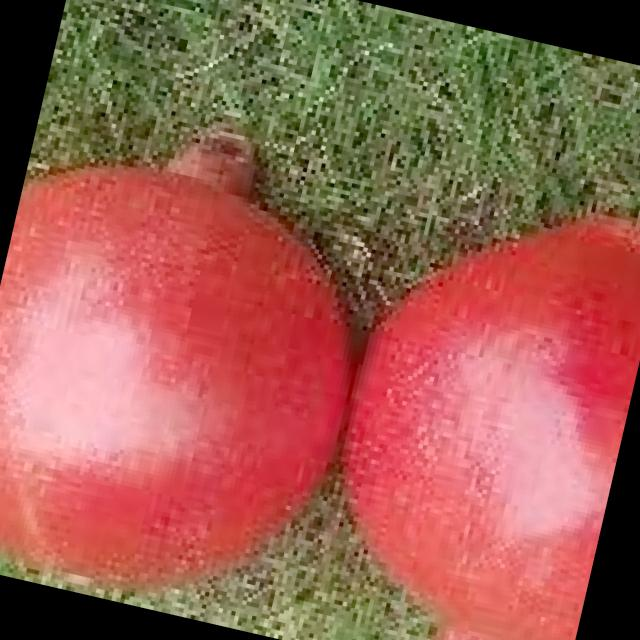Good_Pomegranate-50-60-days: (0, 133, 640, 640)
